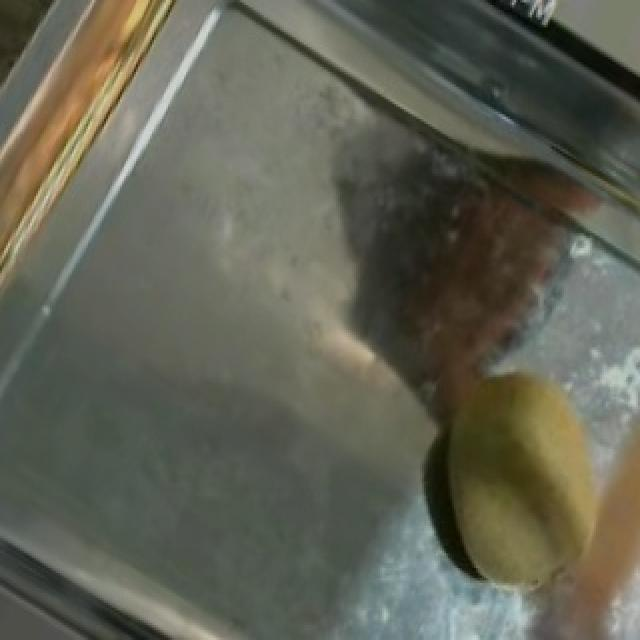Fruit: (394, 330, 640, 635)
